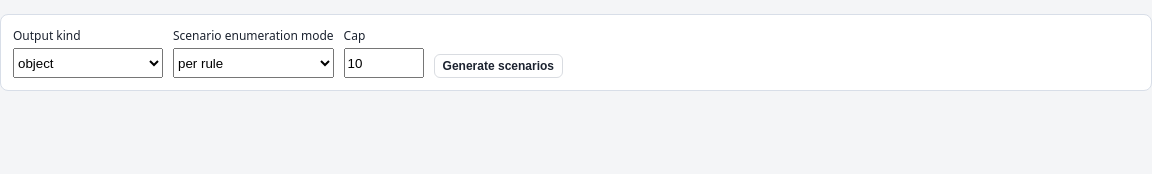
DecisionScenarioWorkbench › keeps a failed save retryable instead of reporting local-only success
Click the button with test id "generate-decision-scenarios": [498, 66] box [434, 54, 563, 78]
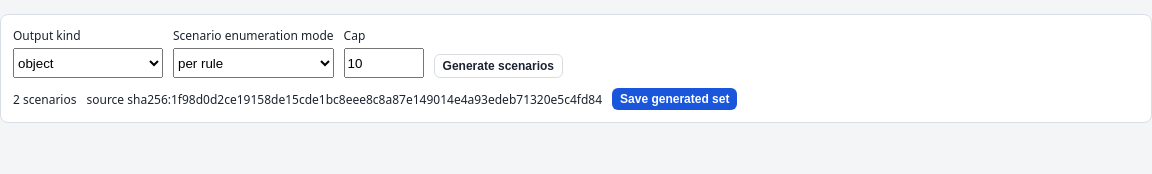
Now the element with test id "decision-scenario-preview" is shown, box [13, 88, 738, 110]
Click the button "Save generated set": [675, 99] box [612, 88, 738, 110]
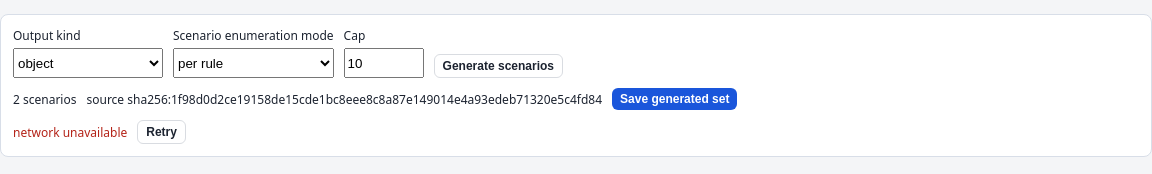
Now the message "network unavailable Retry" is shown, box [13, 120, 186, 144]
Now the button "Retry" is shown, box [137, 120, 186, 144]
